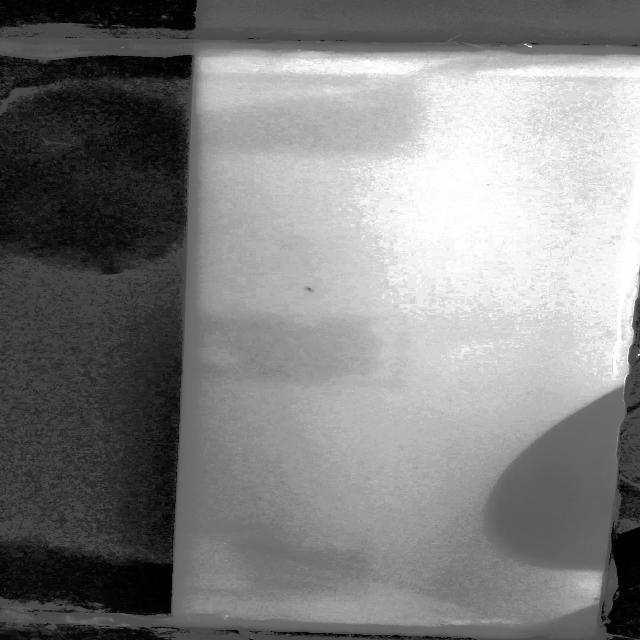shrimp: (296, 279, 318, 298)
